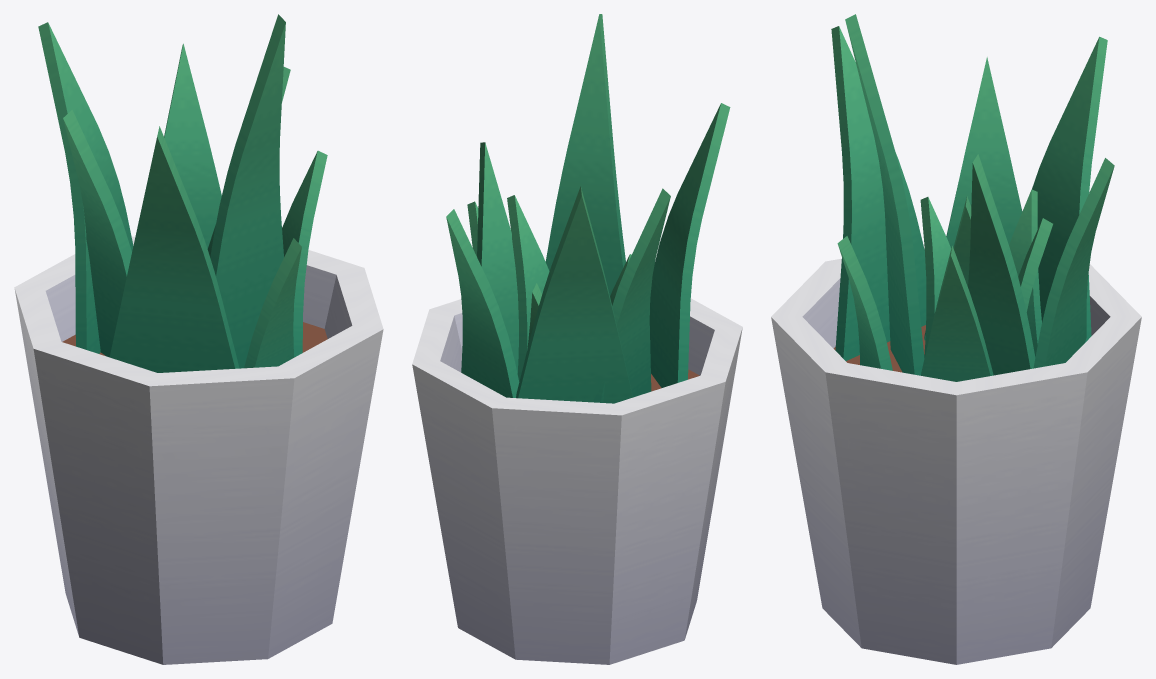
The model's file is potplant.001.fbx.
The picture shows the model from 3 angles, left to right: view 1: azimuth 30°, elevation 25°; view 2: azimuth 150°, elevation 25°; view 3: azimuth 270°, elevation 25°; orthographic projection. The views are drawn at different scales.
Parts seen in each view (by area): view 1: potplant.001; view 2: potplant.001; view 3: potplant.001.
Part boxes in pixels (x1=…): potplant.001: x1=14, y1=14, x2=383, y2=664; potplant.001: x1=412, y1=14, x2=742, y2=664; potplant.001: x1=771, y1=14, x2=1141, y2=664.
Size of the model in its own units: 0.1549 by 0.1549 by 0.2799.
